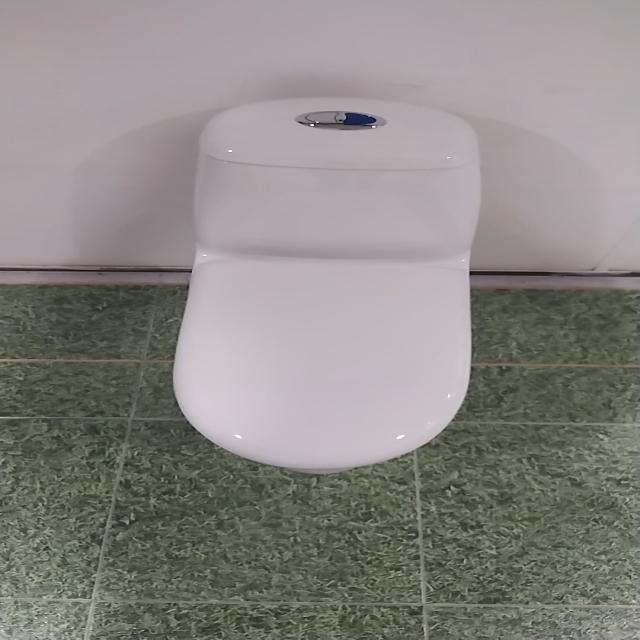toilet: (171, 96, 482, 474)
